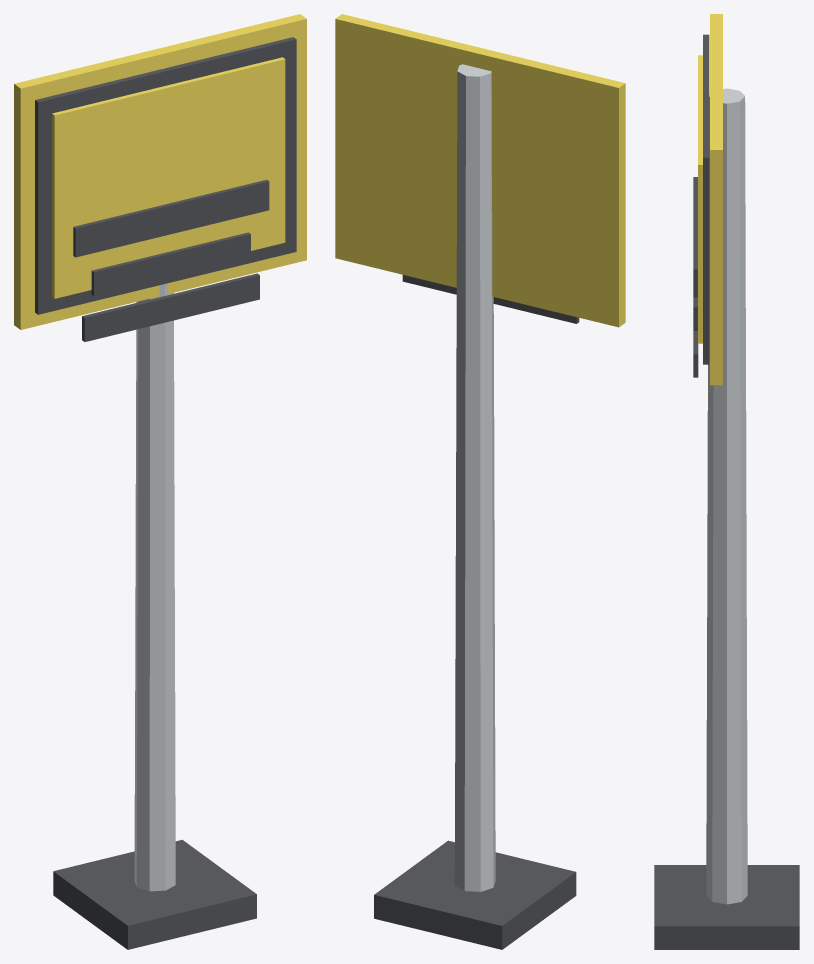
File: skate-park-and-street-sports-ramp-warning-sign-e9947729__33551.glb
3 renders of one model, left to right at view 1: azimuth 30°, elevation 25°; view 2: azimuth 150°, elevation 25°; view 3: azimuth 270°, elevation 25°, orthographic. The views are drawn at different scales.
Visible parts, largest first — view 1: ramp-warning-sign-canary, ramp-warning-sign-charcoal, ramp-warning-sign-steel; view 2: ramp-warning-sign-canary, ramp-warning-sign-steel, ramp-warning-sign-charcoal; view 3: ramp-warning-sign-steel, ramp-warning-sign-charcoal, ramp-warning-sign-canary.
Boxes of the visible parts, x1,y1,x2,y2 form: ramp-warning-sign-canary: (14, 14, 306, 329); ramp-warning-sign-charcoal: (35, 37, 296, 949); ramp-warning-sign-steel: (134, 67, 175, 891); ramp-warning-sign-canary: (335, 14, 625, 327); ramp-warning-sign-steel: (454, 64, 495, 891); ramp-warning-sign-charcoal: (374, 275, 579, 949); ramp-warning-sign-steel: (706, 88, 747, 904); ramp-warning-sign-charcoal: (654, 34, 799, 949); ramp-warning-sign-canary: (698, 14, 722, 385).
Size of the model in its own units: 0.62 by 1.78 by 0.2801.
